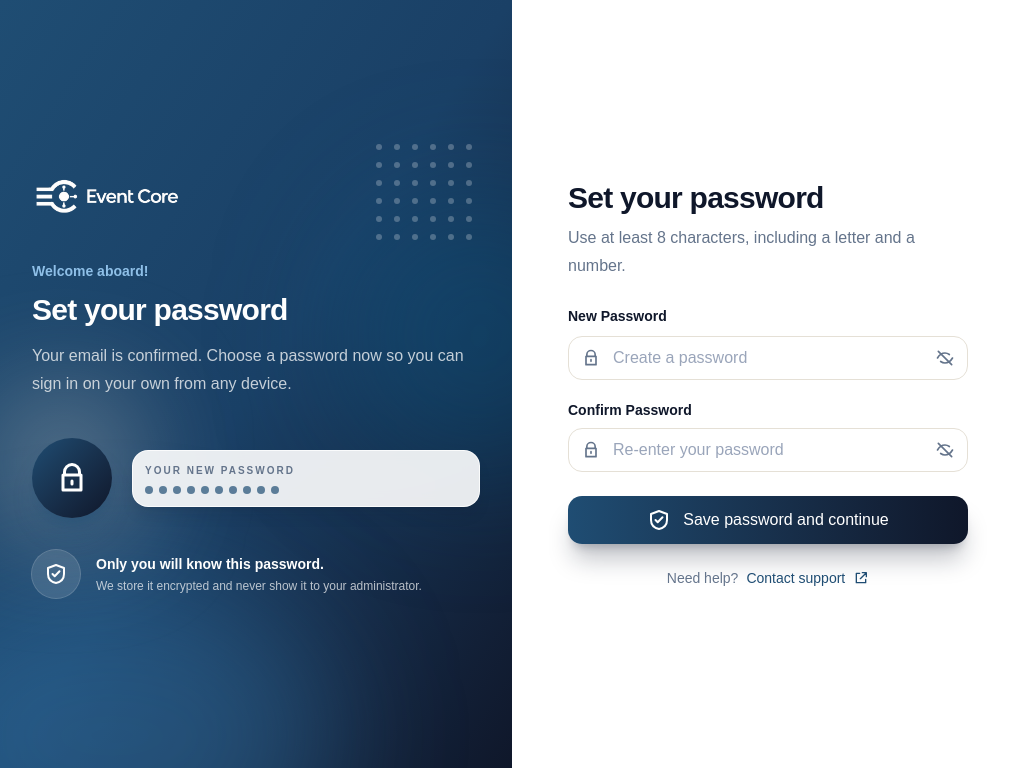
Test case: SetPasswordCard › surfaces why the sync refused the account
The width and height of the screenshot is (1024, 768).
Expected: the button "Save password and continue" does not have attribute disabled, [568, 496, 968, 544]
Step 1. Type "Invitee!2026" into the password field labelled "New Password" → (768,358), box [613, 346, 923, 370]
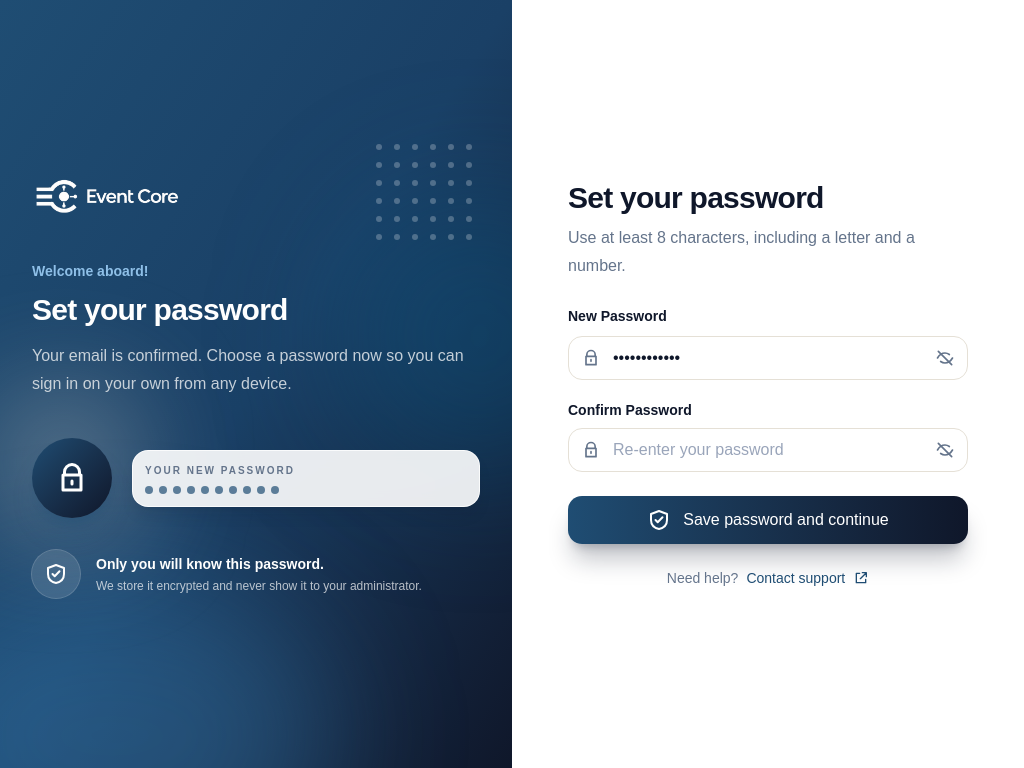
Step 2. Type "Invitee!2026" into the password field labelled "Confirm Password" → (768,450), box [613, 438, 923, 462]
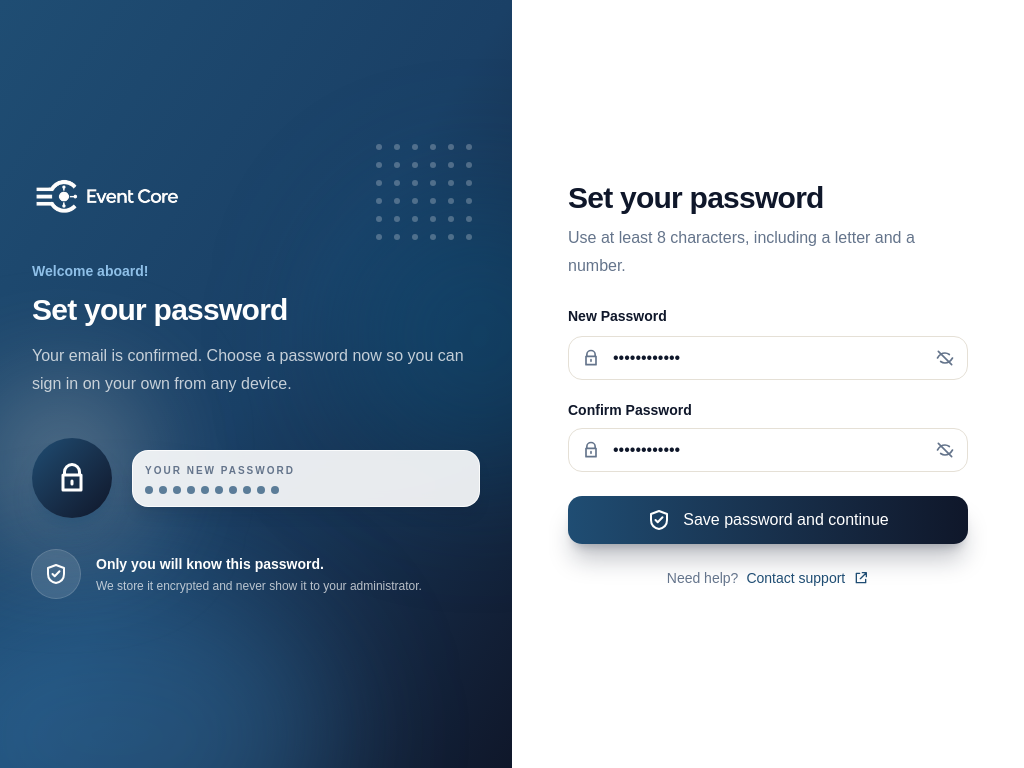
Step 3. Submit the form from the button "Save password and continue", box [568, 496, 968, 544]
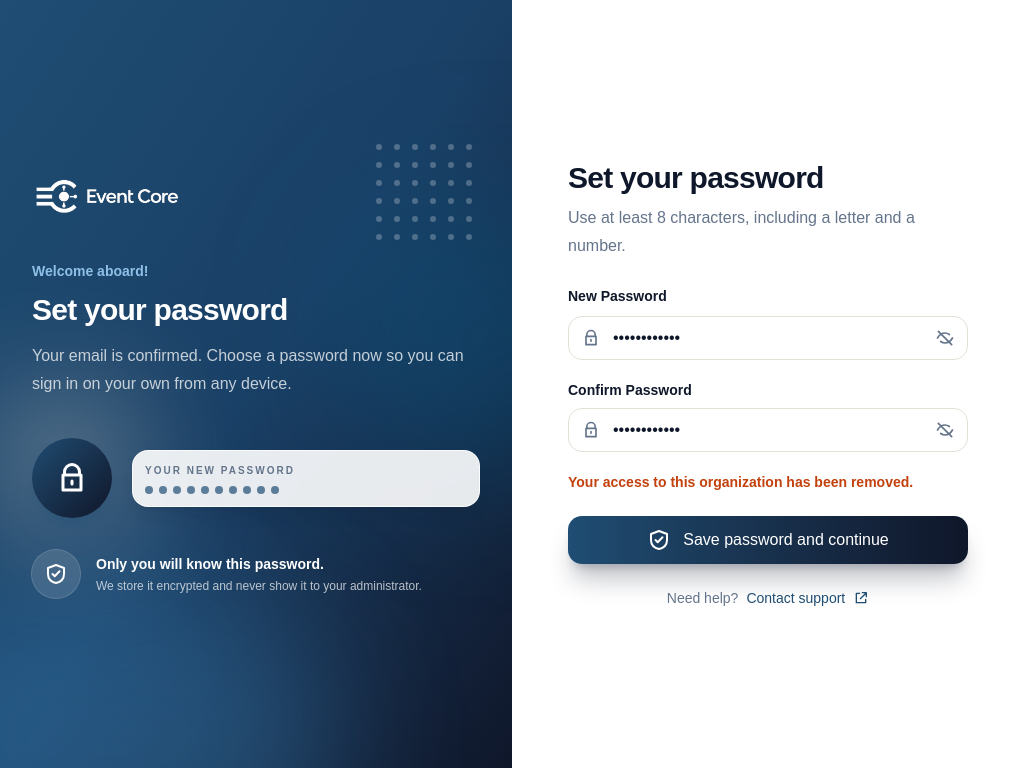
Result: the text "Your access to this organization has been removed." is shown at [568, 472, 968, 492]
